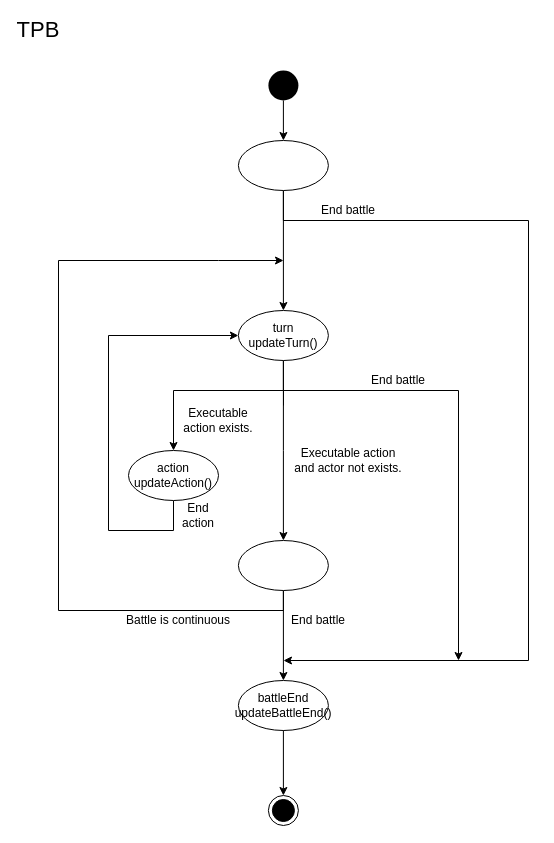
The diagram is 554 pixels wide and 843 high, and some of its shapes have lost their labels. The centre of each missing label's shape, as x and y in pixels:
"start updateStart()" belongs at pixel 282 165.
"turnEnd updateTurnEnd()" belongs at pixel 282 565.
